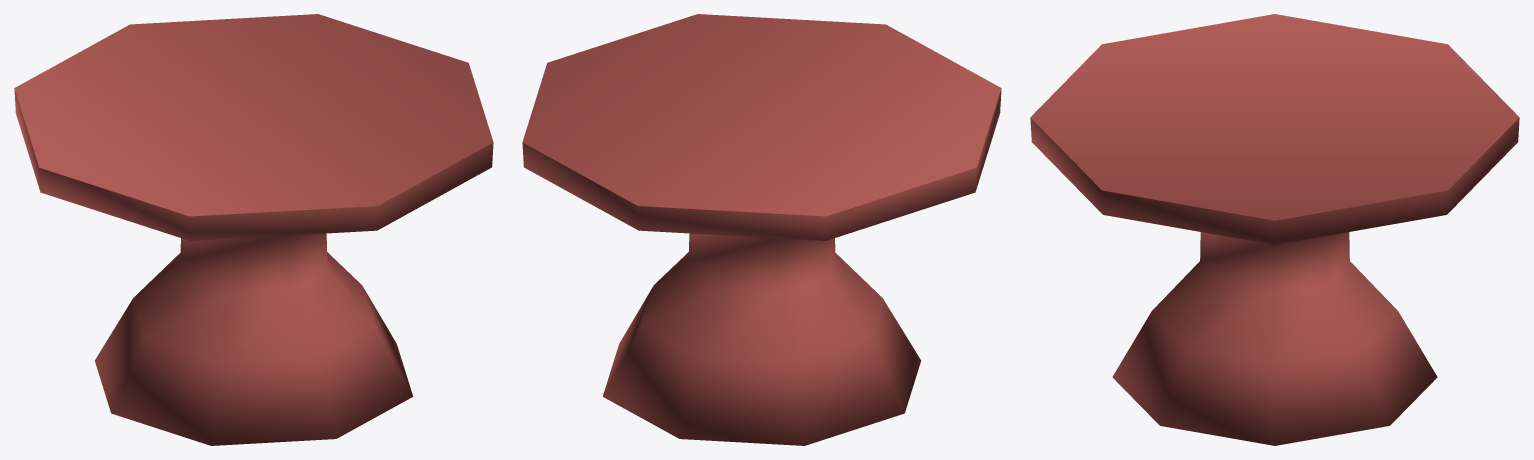
Rendered from Cake_Display_A.FBX.
3 views of the same model, side by side, from view 1: azimuth 30°, elevation 25°; view 2: azimuth 150°, elevation 25°; view 3: azimuth 270°, elevation 25° (orthographic).
Visible parts, largest first — view 1: Cake Display; view 2: Cake Display; view 3: Cake Display.
Boxes of the visible parts, <box> form: Cake Display: <box>14,14,493,445</box>; Cake Display: <box>522,14,1001,445</box>; Cake Display: <box>1030,14,1519,445</box>.
Size of the model in its own units: 89.08 by 52.2 by 89.08.
